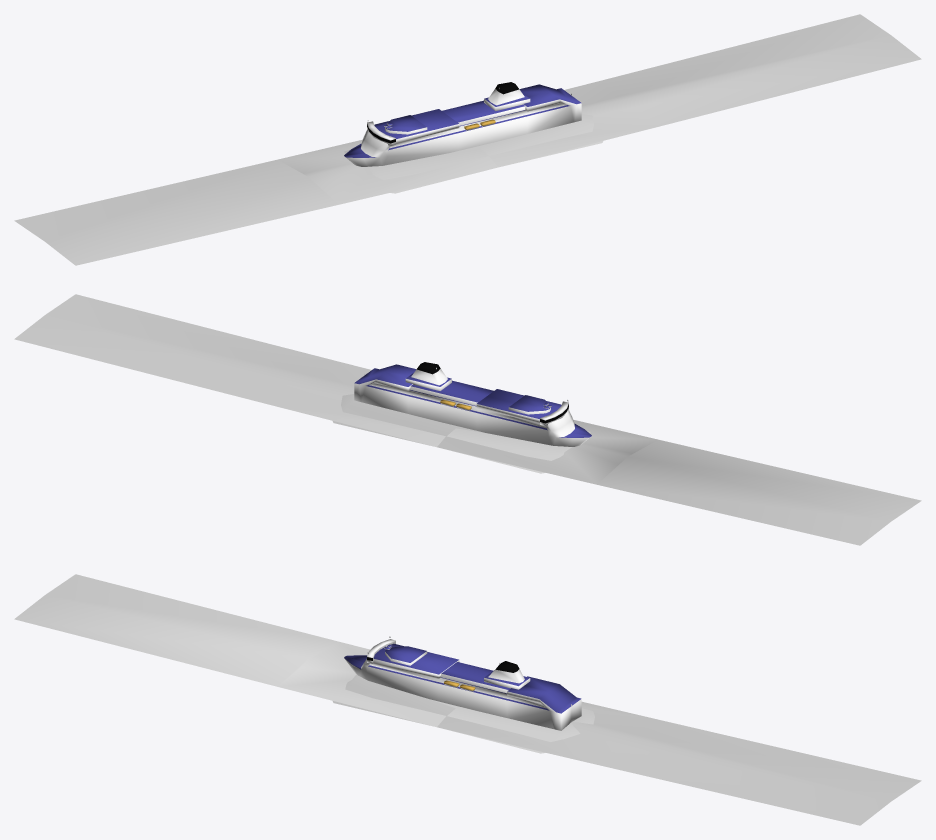
Rendered from Ferry_FerryBoat1.glb.
The picture shows the model from 3 angles, top to bottom: view 1: azimuth 30°, elevation 25°; view 2: azimuth 150°, elevation 25°; view 3: azimuth 330°, elevation 25°; orthographic projection.
Visible parts, largest first — view 1: airframe; view 2: airframe; view 3: airframe.
Part boxes in pixels (<box>): airframe: <box>14,14,921,265</box>; airframe: <box>14,294,921,545</box>; airframe: <box>14,574,921,825</box>.
Size of the model in its own units: 669 by 39.76 by 84.4.
